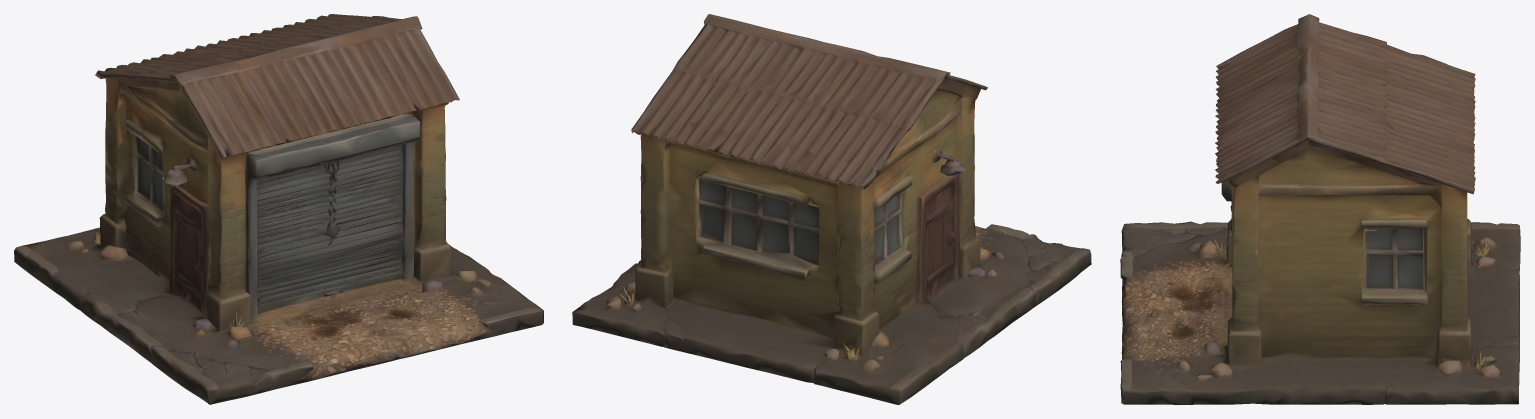
File: journey_garage.glb
3 renders of one model, left to right at view 1: azimuth 30°, elevation 25°; view 2: azimuth 150°, elevation 25°; view 3: azimuth 270°, elevation 25°, orthographic. The views are drawn at different scales.
Parts seen in each view (by area): view 1: tripo_node_1caeb062-7b74-4700-ae41-ade1b4b84f01; view 2: tripo_node_1caeb062-7b74-4700-ae41-ade1b4b84f01; view 3: tripo_node_1caeb062-7b74-4700-ae41-ade1b4b84f01.
Part boxes in pixels (x1,y1,x2,y2): tripo_node_1caeb062-7b74-4700-ae41-ade1b4b84f01: [14, 14, 543, 404]; tripo_node_1caeb062-7b74-4700-ae41-ade1b4b84f01: [572, 14, 1091, 404]; tripo_node_1caeb062-7b74-4700-ae41-ade1b4b84f01: [1120, 14, 1520, 404].
Bounding box in the file's own units: 0.9919 × 0.6999 × 1.
Materials: 1 (1 with a texture image).
